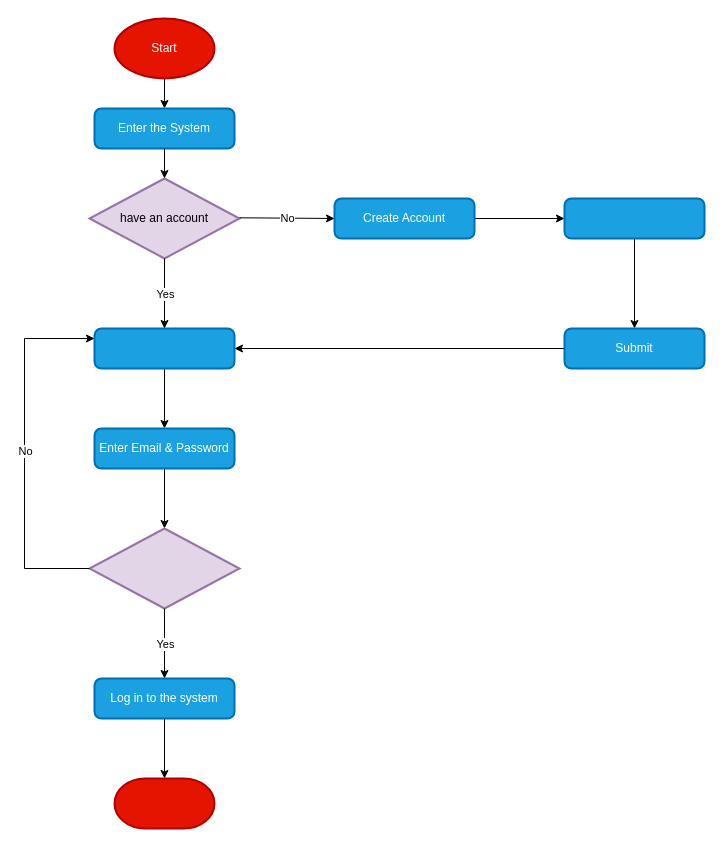
The diagram is 723 pixels wide and 846 high, and some of its shapes have lost their labels. The shapes that lost their labels are listed below. From the top down, each one's centre as x and y in pixels, then its label:
At (x=634, y=218): "Fill out Information".
At (x=164, y=348): "Login".
At (x=164, y=568): "Valid Email & Password".
At (x=164, y=803): "End".
